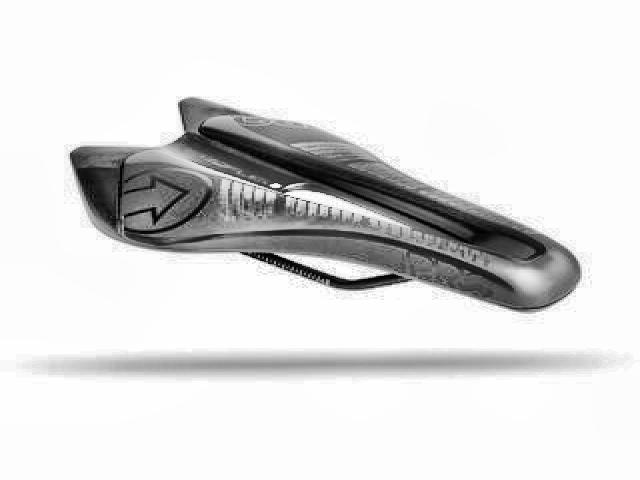saddle: (64, 89, 588, 320)
